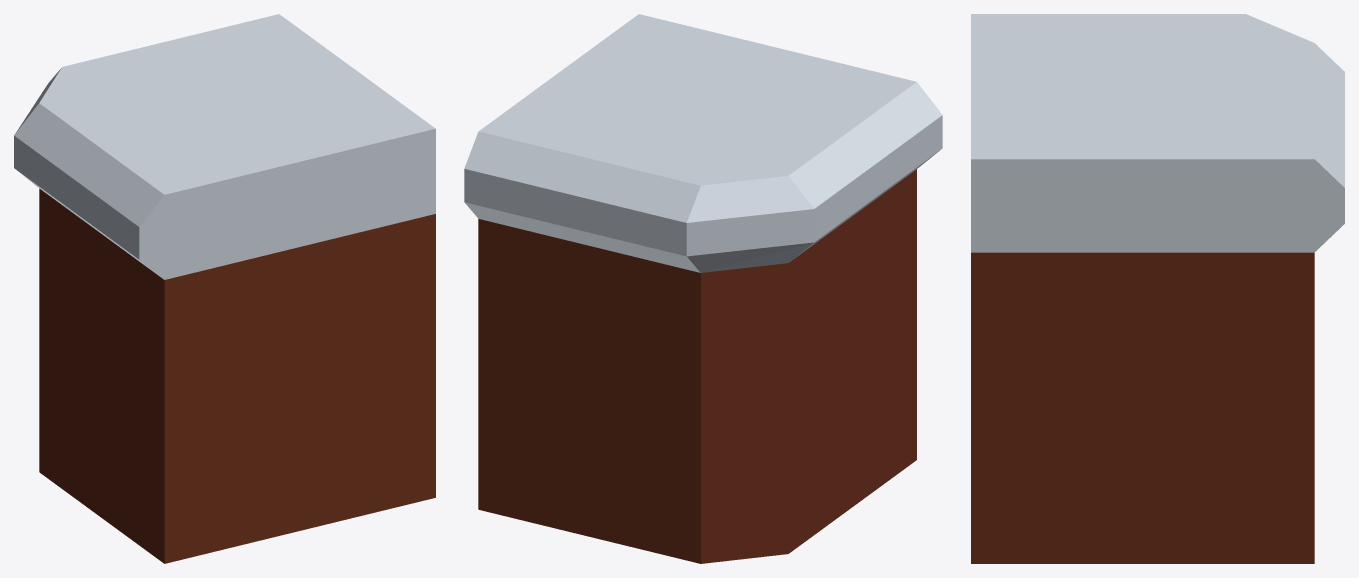
File: SnowCorner.fbx
The picture shows the model from 3 angles, left to right: view 1: azimuth 30°, elevation 25°; view 2: azimuth 150°, elevation 25°; view 3: azimuth 270°, elevation 25°; orthographic projection. The views are drawn at different scales.
Visible parts, largest first — view 1: Corner; view 2: Corner; view 3: Corner.
Part boxes in pixels (left/top/right/bottom): Corner: left=14, top=14, right=435, bottom=563; Corner: left=464, top=14, right=942, bottom=563; Corner: left=971, top=14, right=1344, bottom=563.
Size of the model in its own units: 109 by 130 by 109.
